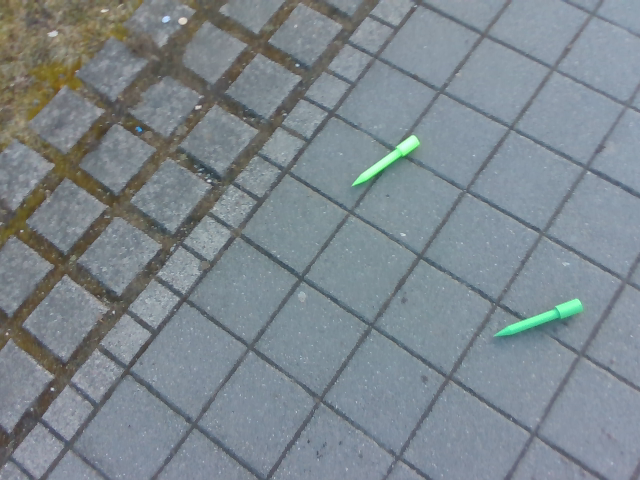Probe: (348, 128, 426, 195), (490, 295, 586, 343)
